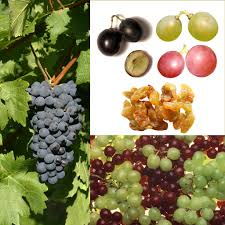Black grapes: (27, 78, 80, 187), (94, 15, 145, 55)
Green grapes: (156, 9, 219, 43), (140, 143, 179, 173)
Red Grapes: (158, 45, 218, 82)
